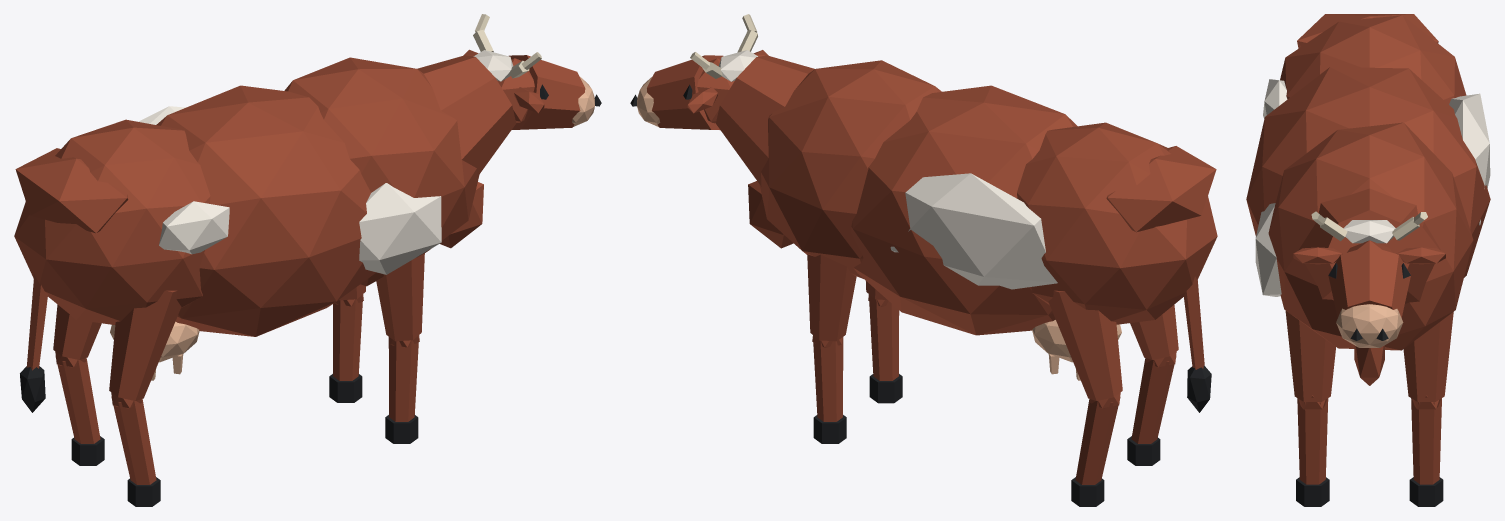
The model's file is ko_rod.glb.
3 renders of one model, left to right at view 1: azimuth 30°, elevation 25°; view 2: azimuth 150°, elevation 25°; view 3: azimuth 270°, elevation 25°, orthographic.
Visible parts, largest first — view 1: ko_rod; view 2: ko_rod; view 3: ko_rod.
Boxes of the visible parts, x1,y1,x2,y2 form: ko_rod: (14,14,601,506); ko_rod: (630,14,1217,506); ko_rod: (1246,14,1490,506).
Bounding box in the file's own units: 2.6 × 1.53 × 0.9446.
